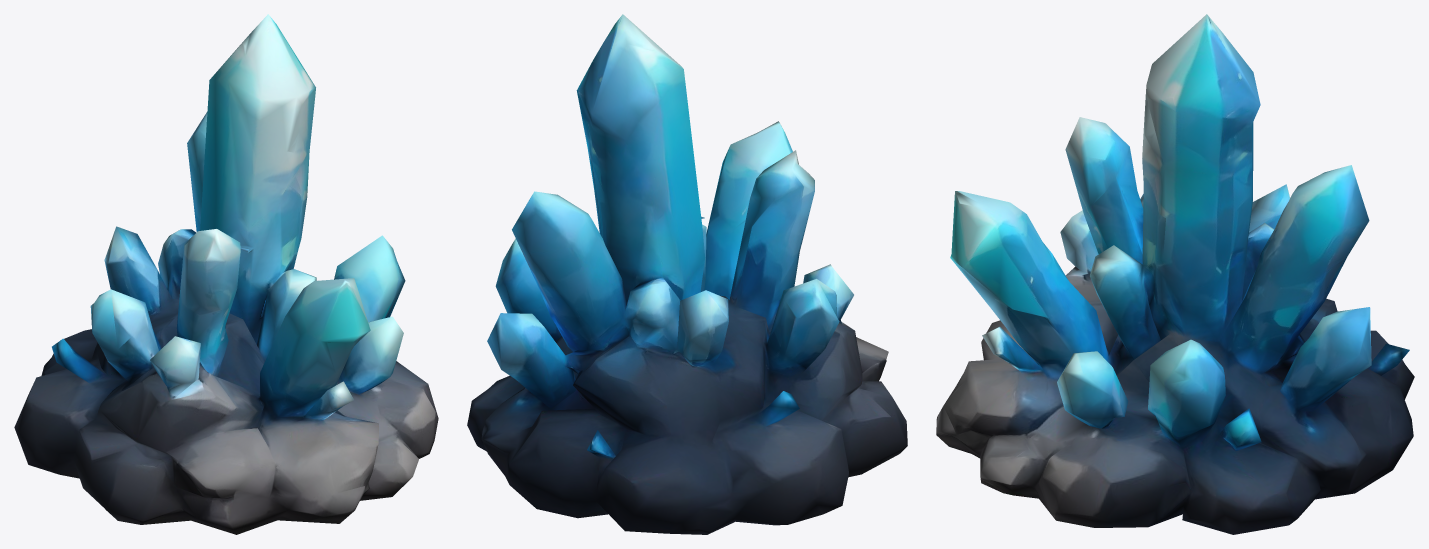
The model's file is e_crystal.glb.
3 views of the same model, side by side, from view 1: azimuth 30°, elevation 25°; view 2: azimuth 150°, elevation 25°; view 3: azimuth 270°, elevation 25° (orthographic). The views are drawn at different scales.
Visible parts, largest first — view 1: tripo_node_67f1c210-f8cc-4f0c-aab7-a3ca6d583630; view 2: tripo_node_67f1c210-f8cc-4f0c-aab7-a3ca6d583630; view 3: tripo_node_67f1c210-f8cc-4f0c-aab7-a3ca6d583630.
Part boxes in pixels (x1=…): tripo_node_67f1c210-f8cc-4f0c-aab7-a3ca6d583630: x1=14, y1=14, x2=438, y2=534; tripo_node_67f1c210-f8cc-4f0c-aab7-a3ca6d583630: x1=467, y1=14, x2=907, y2=534; tripo_node_67f1c210-f8cc-4f0c-aab7-a3ca6d583630: x1=936, y1=14, x2=1414, y2=534.
Size of the model in its own units: 0.8897 by 1 by 0.9478.
Materials: 1 (1 with a texture image).
